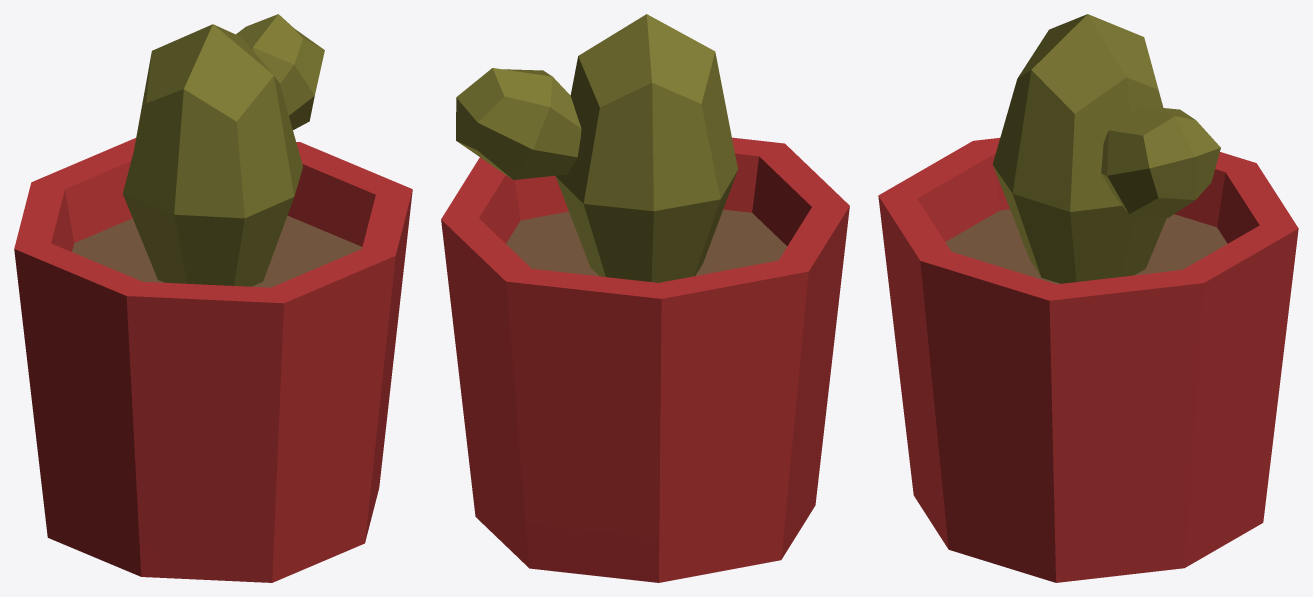
File: Cactus_2_231109.glb
The picture shows the model from 3 angles, left to right: view 1: azimuth 30°, elevation 25°; view 2: azimuth 150°, elevation 25°; view 3: azimuth 270°, elevation 25°; orthographic projection.
Visible parts, largest first — view 1: Cactus_2; view 2: Cactus_2; view 3: Cactus_2.
Boxes of the visible parts, bbox=[...] form: Cactus_2: bbox=[14, 14, 412, 582]; Cactus_2: bbox=[441, 14, 849, 582]; Cactus_2: bbox=[878, 14, 1298, 582].
Size of the model in its own units: 0.1322 by 0.1717 by 0.1322.
Materials: 1 (1 with a texture image).
